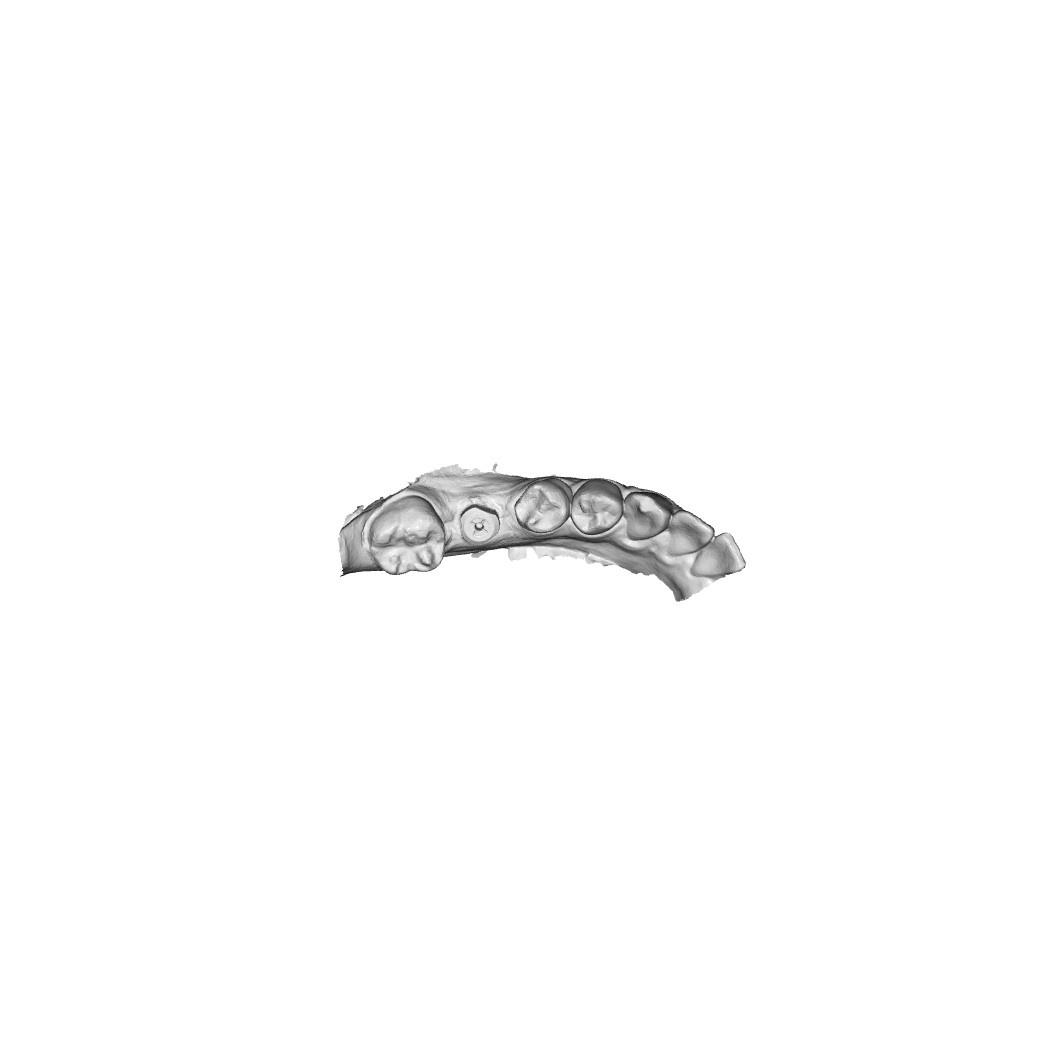canine: (621, 491, 668, 543)
implant_plus: (463, 501, 502, 545)
incisor: (687, 532, 749, 581), (665, 510, 710, 556)
molar: (365, 498, 445, 580)
premolar: (512, 477, 572, 533), (567, 478, 621, 538)
